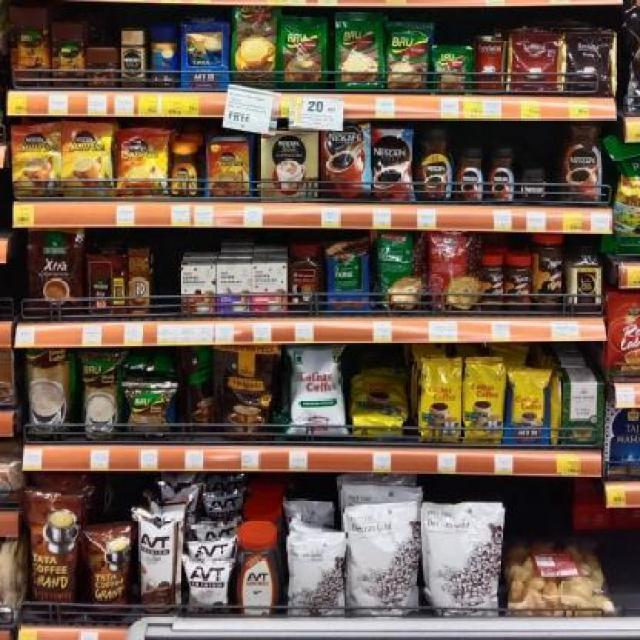Coffee: (321, 124, 368, 202), (65, 124, 111, 198), (562, 120, 601, 203), (13, 127, 59, 196), (119, 129, 164, 195), (372, 131, 410, 200), (419, 132, 453, 200), (458, 149, 485, 204), (171, 143, 200, 194), (489, 148, 515, 201), (121, 30, 145, 86), (520, 168, 549, 200)
